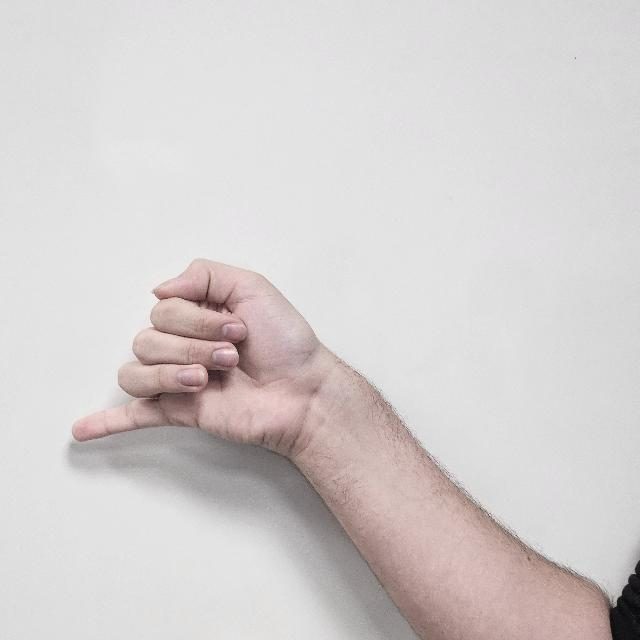Esquerda: (65, 234, 368, 478)
